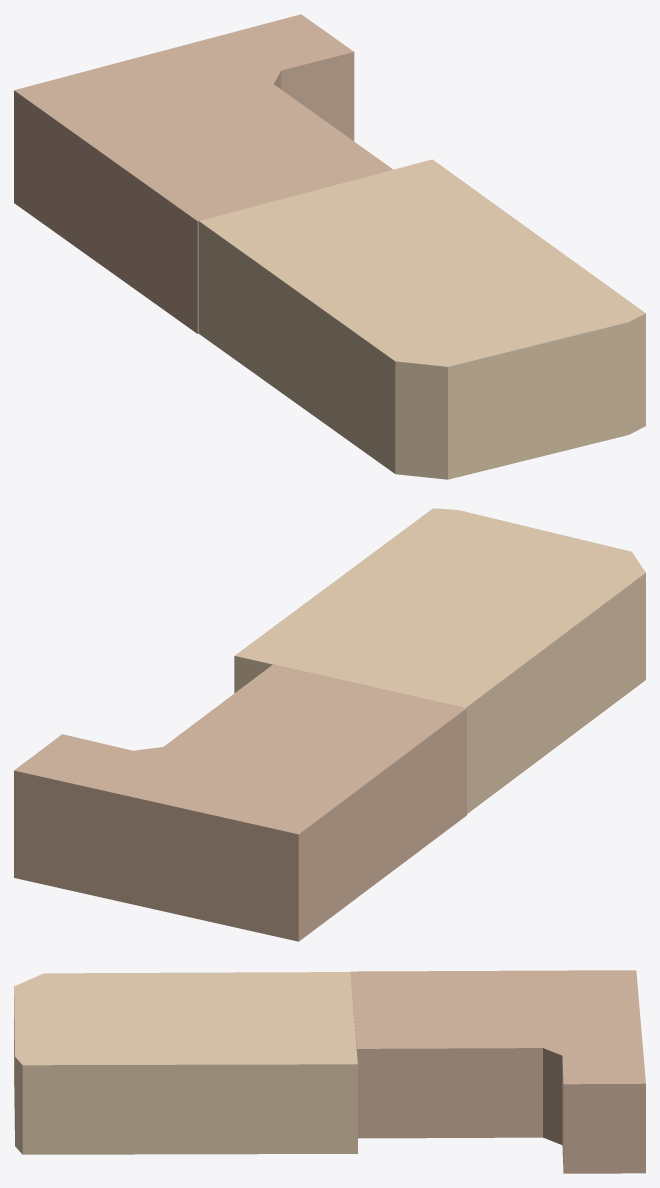
The model's file is terminus-1917.gltf.
3 renders of one model, top to bottom at view 1: azimuth 30°, elevation 25°; view 2: azimuth 150°, elevation 25°; view 3: azimuth 270°, elevation 25°, orthographic. The views are drawn at different scales.
Visible parts, largest first — view 1: 1917-corner-roof-envelope, 1900-wing-roof-envelope; view 2: 1900-wing-roof-envelope, 1917-corner-roof-envelope; view 3: 1917-corner-roof-envelope, 1900-wing-roof-envelope.
Part boxes in pixels (box(x1,y1,x2,y2)): 1917-corner-roof-envelope: box(198, 159, 645, 479); 1900-wing-roof-envelope: box(14, 14, 392, 333); 1900-wing-roof-envelope: box(14, 664, 466, 941); 1917-corner-roof-envelope: box(234, 508, 645, 813); 1917-corner-roof-envelope: box(14, 972, 357, 1154); 1900-wing-roof-envelope: box(350, 970, 645, 1173).
Size of the model in its own units: 2.46 by 0.9 by 5.76.
